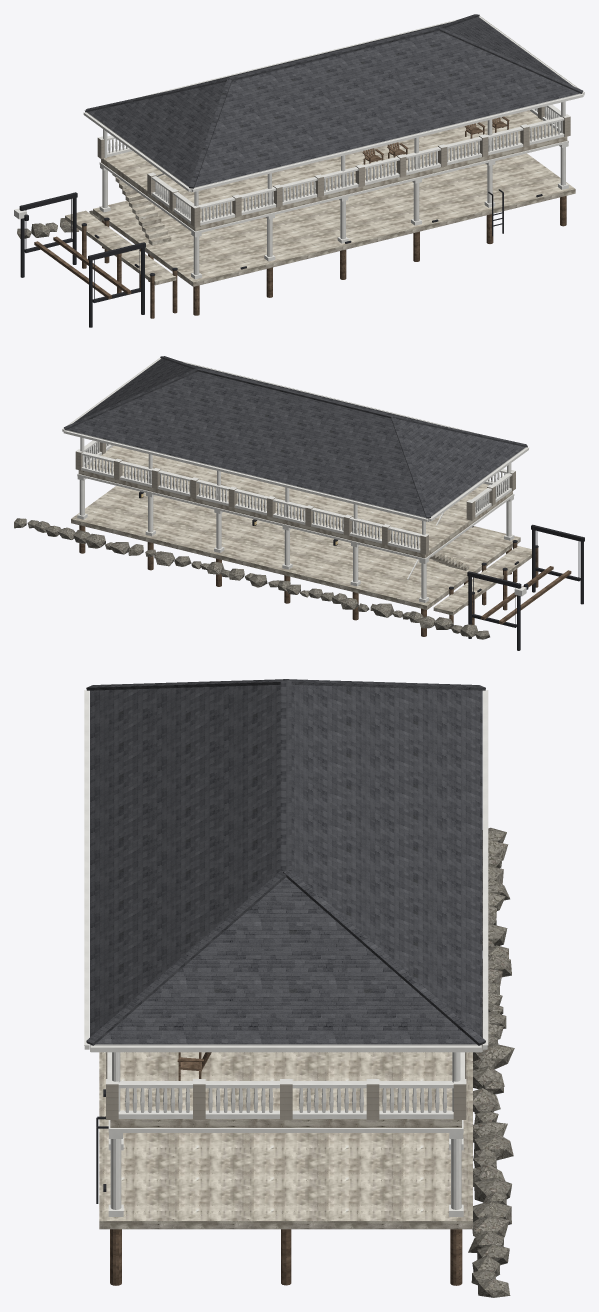
Rendered from se_boathouse_2storey.fbx.
3 renders of one model, top to bottom at view 1: azimuth 30°, elevation 25°; view 2: azimuth 150°, elevation 25°; view 3: azimuth 270°, elevation 25°, orthographic. The views are drawn at different scales.
Parts seen in each view (by area): view 1: se_boathouse_2storey_LOD0; view 2: se_boathouse_2storey_LOD0; view 3: se_boathouse_2storey_LOD0.
Boxes of the visible parts, x1,y1,x2,y2 form: se_boathouse_2storey_LOD0: [14, 14, 584, 327]; se_boathouse_2storey_LOD0: [14, 356, 584, 650]; se_boathouse_2storey_LOD0: [84, 679, 514, 1297].
Size of what is drawn, in the model's own units: 30.35 by 10.07 by 11.52.
Materials: 1 (1 with a texture image).
